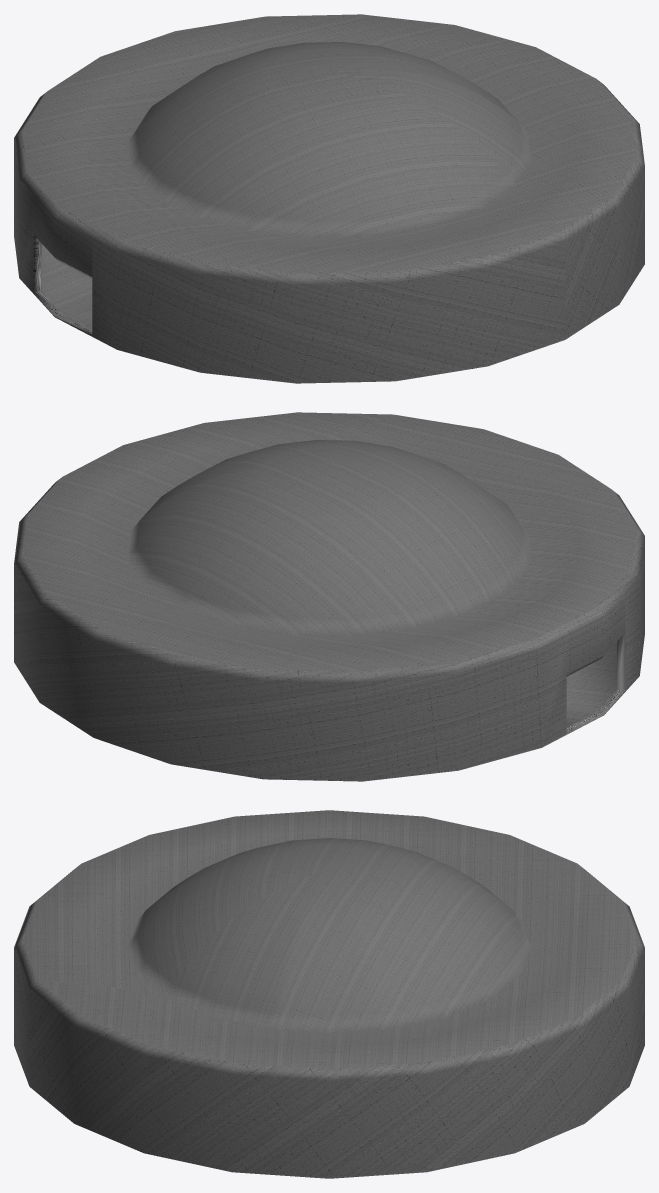
Rendered from M2_Reactor_Building.fbx.
3 renders of one model, top to bottom at view 1: azimuth 30°, elevation 25°; view 2: azimuth 150°, elevation 25°; view 3: azimuth 270°, elevation 25°, orthographic.
Parts seen in each view (by area): view 1: Reactor_Building; view 2: Reactor_Building; view 3: Reactor_Building.
Boxes of the visible parts, box(x1,y1,x2,y2) form: Reactor_Building: box(14, 14, 644, 383); Reactor_Building: box(14, 412, 644, 781); Reactor_Building: box(14, 810, 644, 1178).
Size of the model in its own units: 7.76 by 2.43 by 7.76.
Materials: 1 (1 with a texture image).
